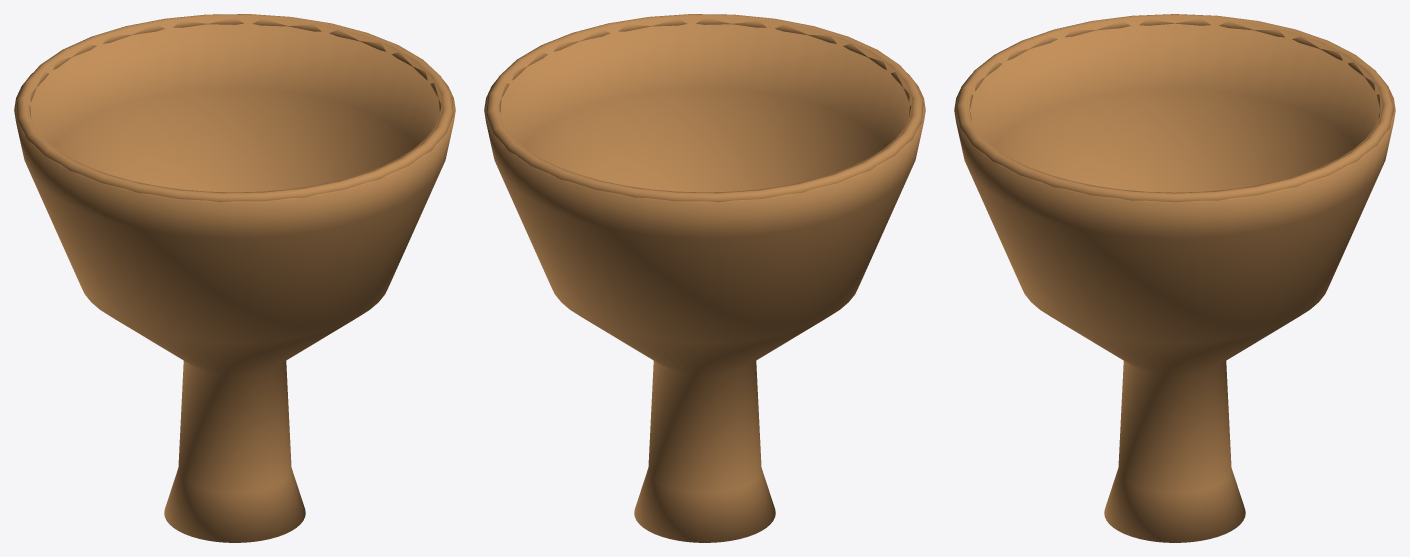
The model's file is mar_bronze.glb.
3 views of the same model, side by side, from view 1: azimuth 30°, elevation 25°; view 2: azimuth 150°, elevation 25°; view 3: azimuth 270°, elevation 25° (orthographic).
Visible parts, largest first — view 1: Recipiente aberto, Borda trabalhada; view 2: Recipiente aberto, Borda trabalhada; view 3: Recipiente aberto, Borda trabalhada.
Part boxes in pixels (x1,y1,x2,y2): Recipiente aberto: [14, 17, 455, 542]; Borda trabalhada: [16, 14, 453, 202]; Recipiente aberto: [484, 17, 925, 542]; Borda trabalhada: [486, 14, 923, 202]; Recipiente aberto: [954, 18, 1395, 542]; Borda trabalhada: [956, 14, 1393, 202].
Size of the model in its own units: 4.68 by 5.02 by 4.68.
